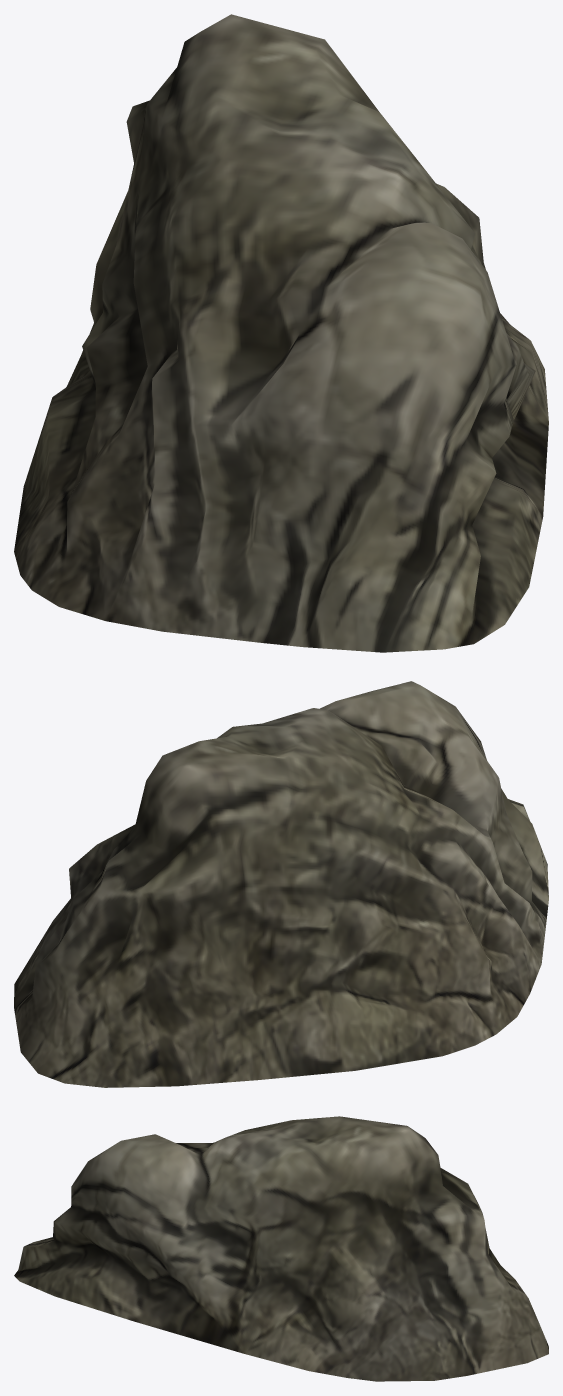
Rendered from MEP_Cliff_12.fbx.
3 renders of one model, top to bottom at view 1: azimuth 30°, elevation 25°; view 2: azimuth 150°, elevation 25°; view 3: azimuth 270°, elevation 25°, orthographic. The views are drawn at different scales.
Parts seen in each view (by area): view 1: MEP_Desert_Cliff_12; view 2: MEP_Desert_Cliff_12; view 3: MEP_Desert_Cliff_12.
Boxes of the visible parts, bbox=[...] form: MEP_Desert_Cliff_12: bbox=[14, 14, 548, 652]; MEP_Desert_Cliff_12: bbox=[14, 681, 548, 1087]; MEP_Desert_Cliff_12: bbox=[14, 1116, 548, 1381].
Size of what is drawn, in the model's own units: 107 by 72.38 by 160.
1 material, 1 textured.
